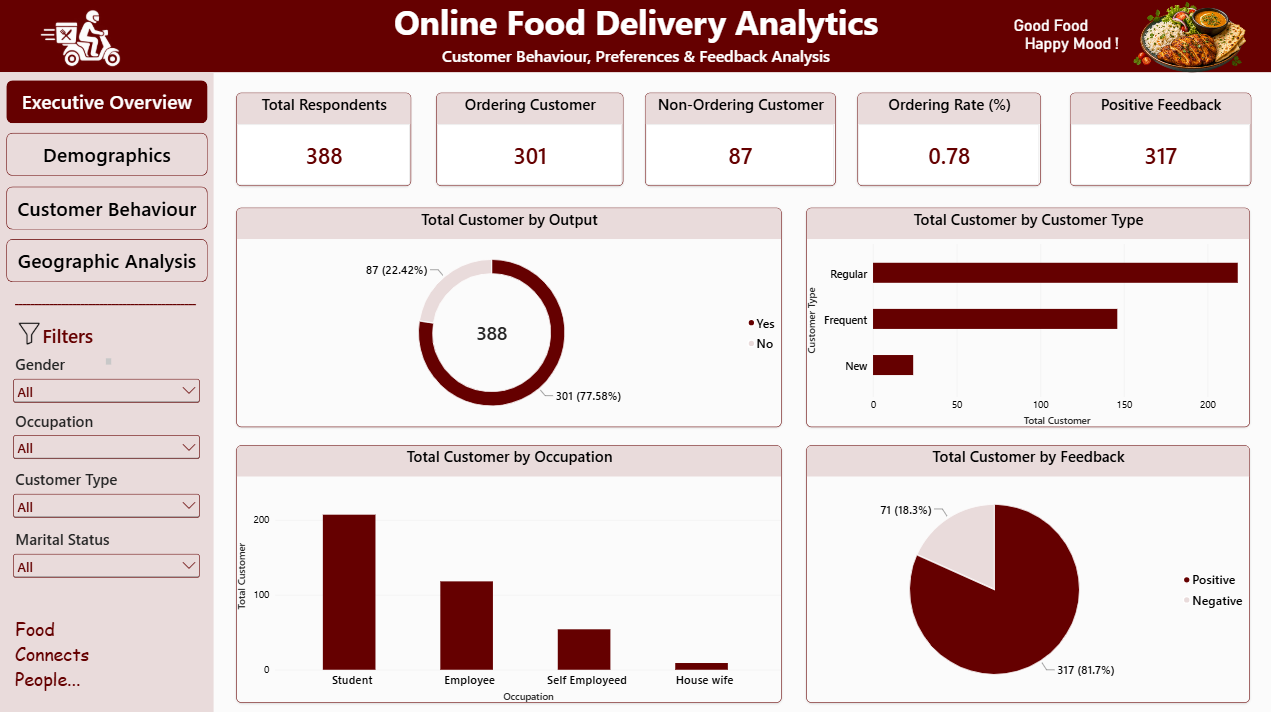

This screenshot's page, from the dashboard's own definition file:
{"tool":"powerbi","page":{"name":"Executive Overview","canvas":[1920,1080],"ordinal":0},"visuals":[{"type":"textbox","title":"Online Food Delivery Analytics","box":[0,0,1920.1,110.4],"z":0},{"type":"image","box":[36.2,0,175.5,110.4],"z":1000},{"type":"image","box":[1545.5,0,356.5,123.1],"z":2000},{"type":"textbox","box":[0,110.4,322.1,970],"z":3000},{"type":"actionButton","box":[9,123.1,304,65.1],"z":4000},{"type":"textbox","box":[1467.6,27.1,237.1,128.5],"z":5000},{"type":"actionButton","box":[9,202.7,304,65.1],"z":6000},{"type":"actionButton","box":[9,282.3,304,65.1],"z":7000},{"type":"actionButton","box":[9,361.9,304,65.1],"z":8000},{"type":"textbox","box":[21.7,445.2,291.4,181],"z":9000},{"type":"textbox","title":"Filters","box":[36.2,488.6,132.1,63.3],"z":10000},{"type":"image","box":[21.7,488.6,43.4,32.6],"z":11000},{"type":"slicer","title":"Gender","fields":{"Values":["online food delivery dataset (1).Gender"]},"box":[14.5,535.7,291.4,85.1],"z":12000},{"type":"slicer","fields":{"Values":["online food delivery dataset (1).Occupation"]},"box":[14.5,620.7,291.4,88.7],"z":13000},{"type":"slicer","fields":{"Values":["online food delivery dataset (1).Customer Type"]},"box":[14.5,709.4,291.4,90.5],"z":14000},{"type":"slicer","fields":{"Values":["online food delivery dataset (1).Marital Status"]},"box":[14.5,799.9,291.4,92.3],"z":15000},{"type":"textbox","box":[21.7,932,284.1,130.3],"z":16000},{"type":"cardVisual","title":"Total Respondents","fields":{"Data":["online food delivery dataset (1).total Customer"]},"box":[356.5,141.2,264.2,141.2],"z":17000},{"type":"cardVisual","title":"Ordering Customer","fields":{"Data":["online food delivery dataset (1).Ordeing customers"]},"box":[658.7,141.2,282.3,141.2],"z":18000},{"type":"cardVisual","title":"Non-Ordering Customer","fields":{"Data":["online food delivery dataset (1).Non-Ordering Customer"]},"box":[973.6,141.2,287.7,141.2],"z":19000},{"type":"cardVisual","title":"Ordering Rate  (%)","fields":{"Data":["online food delivery dataset (1).Ordering Rate"]},"box":[1293.9,141.2,276.9,141.2],"z":20000},{"type":"cardVisual","title":"Positive Feedback","fields":{"Data":["online food delivery dataset (1).Positive Feedback"]},"box":[1614.2,141.2,273.3,141.2],"z":21000},{"type":"donutChart","fields":{"Category":["online food delivery dataset (1).Output"],"Y":["online food delivery dataset (1).Total Customer"]},"box":[356.5,314.9,823.4,331.2],"z":22000},{"type":"clusteredBarChart","fields":{"Category":["online food delivery dataset (1).Customer Type"],"Y":["online food delivery dataset (1).Total Customer"]},"box":[1217.9,314.9,669.6,331.2],"z":23000},{"type":"clusteredColumnChart","fields":{"Category":["online food delivery dataset (1).Occupation"],"Y":["online food delivery dataset (1).Total Customer"]},"box":[356.5,673.2,823.4,389.1],"z":24000},{"type":"pieChart","fields":{"Category":["online food delivery dataset (1).Feedback"],"Y":["online food delivery dataset (1).Total Customer"]},"box":[1217.9,673.2,669.6,389.1],"z":25000}]}

Visuals, with their boxes in screenshot pixels (x1, y1, x2, y2), scaled from the page's 1920x1080 canvas onto the 1271x712 screenshot:
"Online Food Delivery Analytics" textbox: 0,0,1270,73
image: 24,0,140,73
image: 1023,0,1259,81
textbox: 0,73,213,711
actionButton: 6,81,207,124
textbox: 972,18,1128,103
actionButton: 6,134,207,177
actionButton: 6,186,207,229
actionButton: 6,239,207,282
textbox: 14,294,207,413
"Filters" textbox: 24,322,111,364
image: 14,322,43,344
"Gender" slicer: 10,353,202,409
slicer - online food delivery dataset (1).Occupation: 10,409,202,468
slicer - online food delivery dataset (1).Customer Type: 10,468,202,527
slicer - online food delivery dataset (1).Marital Status: 10,527,202,588
textbox: 14,614,202,700
"Total Respondents" cardVisual: 236,93,411,186
"Ordering Customer" cardVisual: 436,93,623,186
"Non-Ordering Customer" cardVisual: 645,93,835,186
"Ordering Rate  (%)" cardVisual: 857,93,1040,186
"Positive Feedback" cardVisual: 1069,93,1249,186
donutChart - online food delivery dataset (1).Output x online food delivery dataset (1).Total Customer: 236,208,781,426
clusteredBarChart - online food delivery dataset (1).Customer Type x online food delivery dataset (1).Total Customer: 806,208,1249,426
clusteredColumnChart - online food delivery dataset (1).Occupation x online food delivery dataset (1).Total Customer: 236,444,781,700
pieChart - online food delivery dataset (1).Feedback x online food delivery dataset (1).Total Customer: 806,444,1249,700
